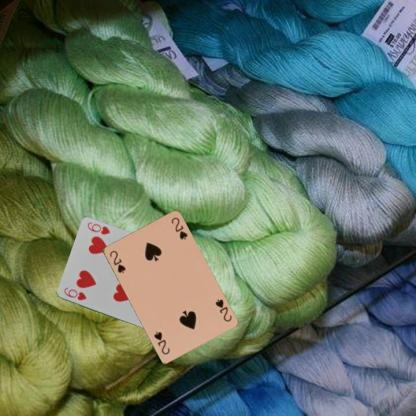2s: (212, 296, 233, 323), (107, 248, 126, 274)
6h: (62, 285, 88, 302)
